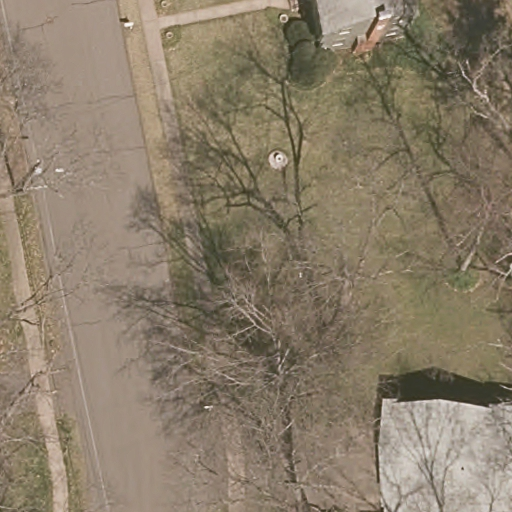DT: (15, 156, 65, 194)
